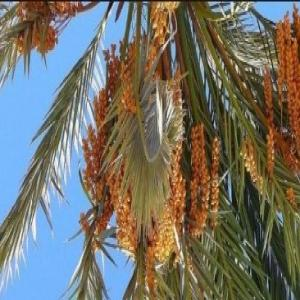palm tree: (0, 0, 297, 298)
